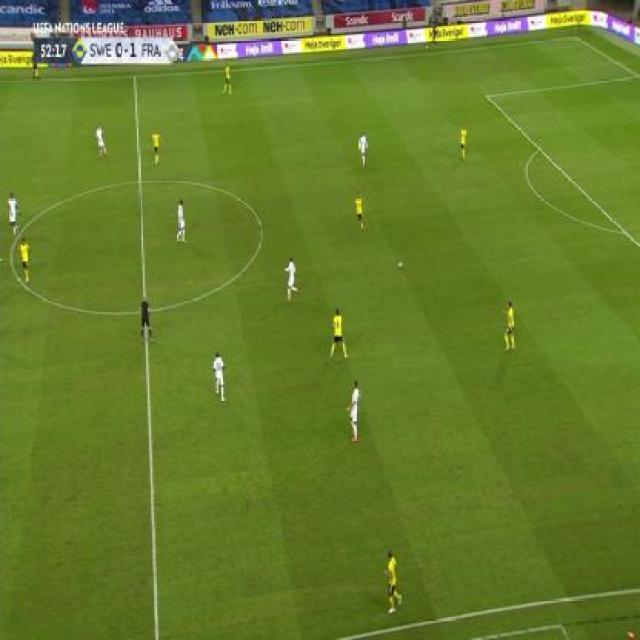ball: (397, 260, 403, 269)
player: (382, 549, 404, 615), (327, 306, 349, 360), (137, 292, 157, 346), (346, 378, 362, 443), (211, 349, 228, 403), (501, 299, 517, 353), (283, 255, 300, 300), (5, 191, 21, 237), (18, 237, 32, 286), (175, 197, 188, 242), (353, 191, 366, 231), (95, 122, 109, 159), (151, 127, 164, 166), (357, 129, 370, 166), (458, 122, 469, 161), (222, 61, 233, 95), (32, 50, 40, 79)
